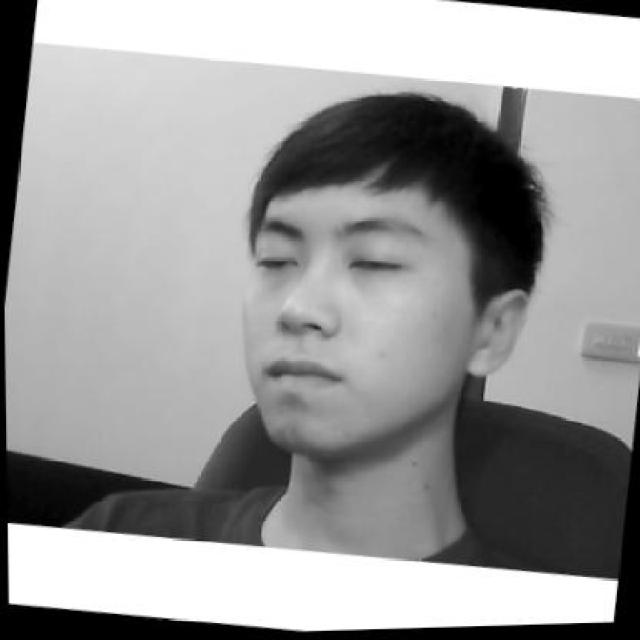inattentif: (218, 71, 554, 480)
